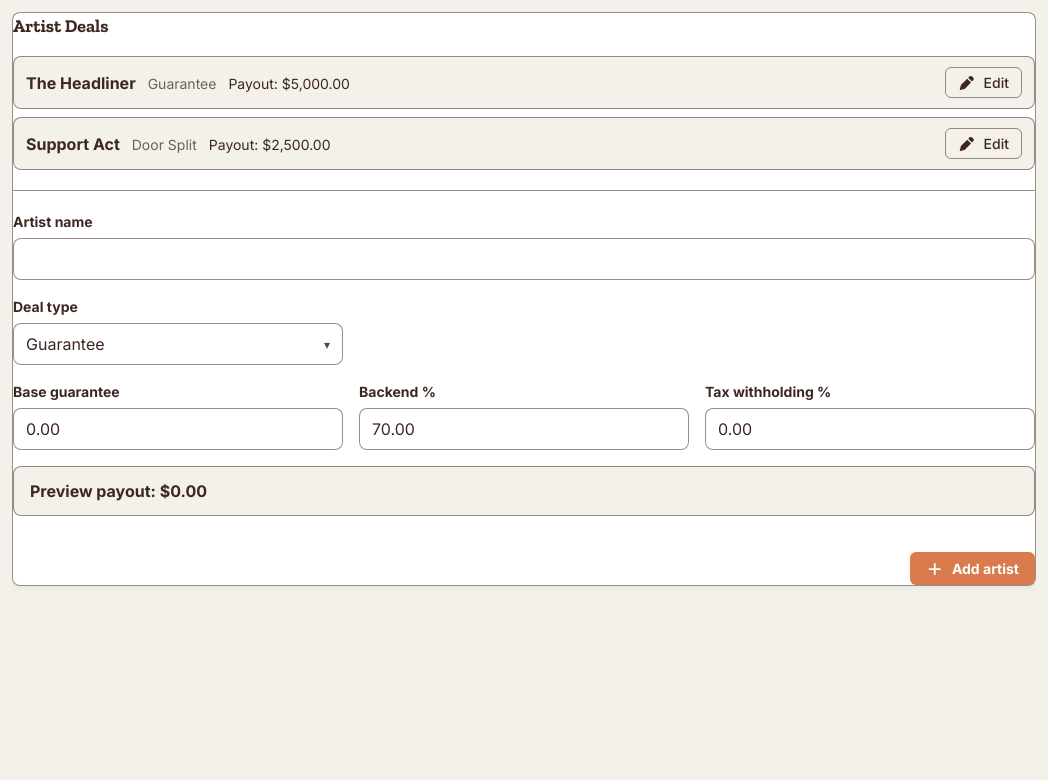
ArtistDealPanel › clears the form when Cancel is clicked in edit mode
Click the button with test id "edit-artist-artist-1": click(984, 82) [945,67,1022,98]
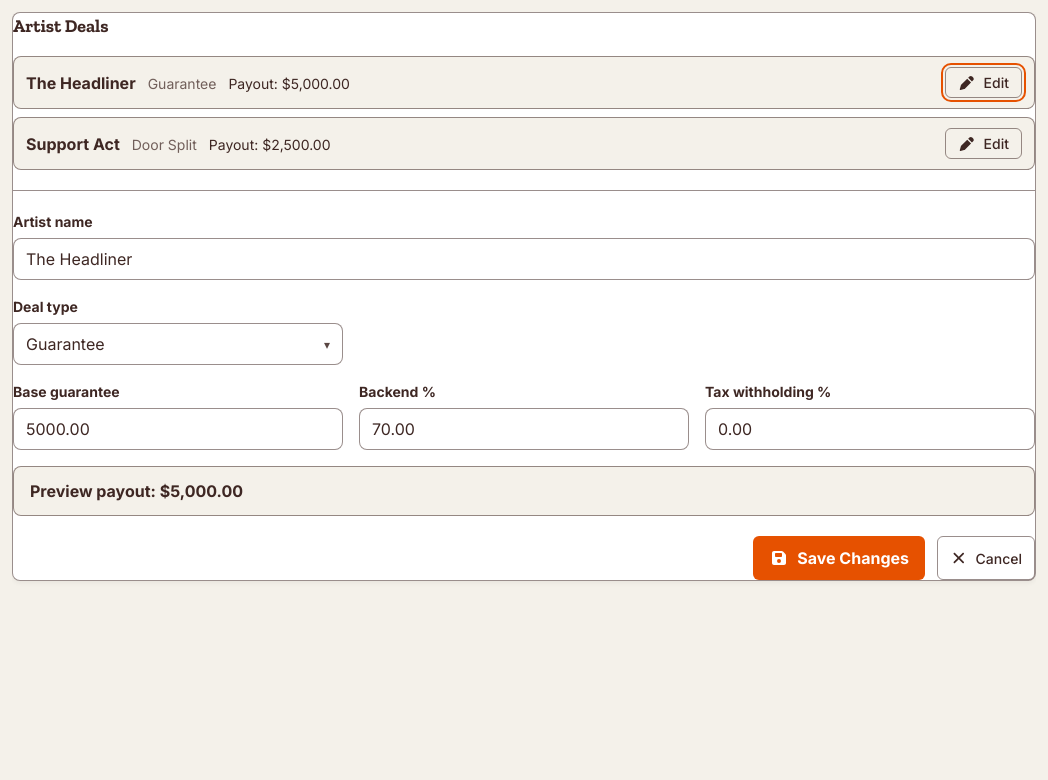
Replace the text in the field with test id "artist-name-input" with "Changed": (524, 259) [13,238,1035,280]
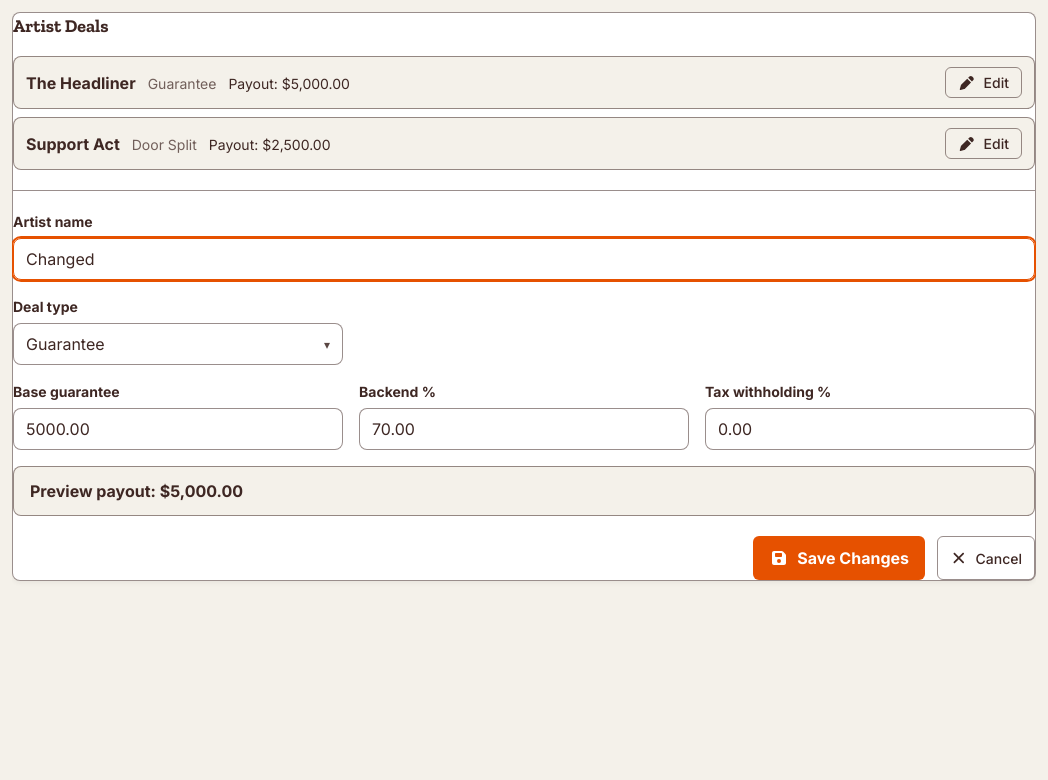
Click the button with test id "cancel-artist-btn": click(986, 558) [937,536,1035,580]
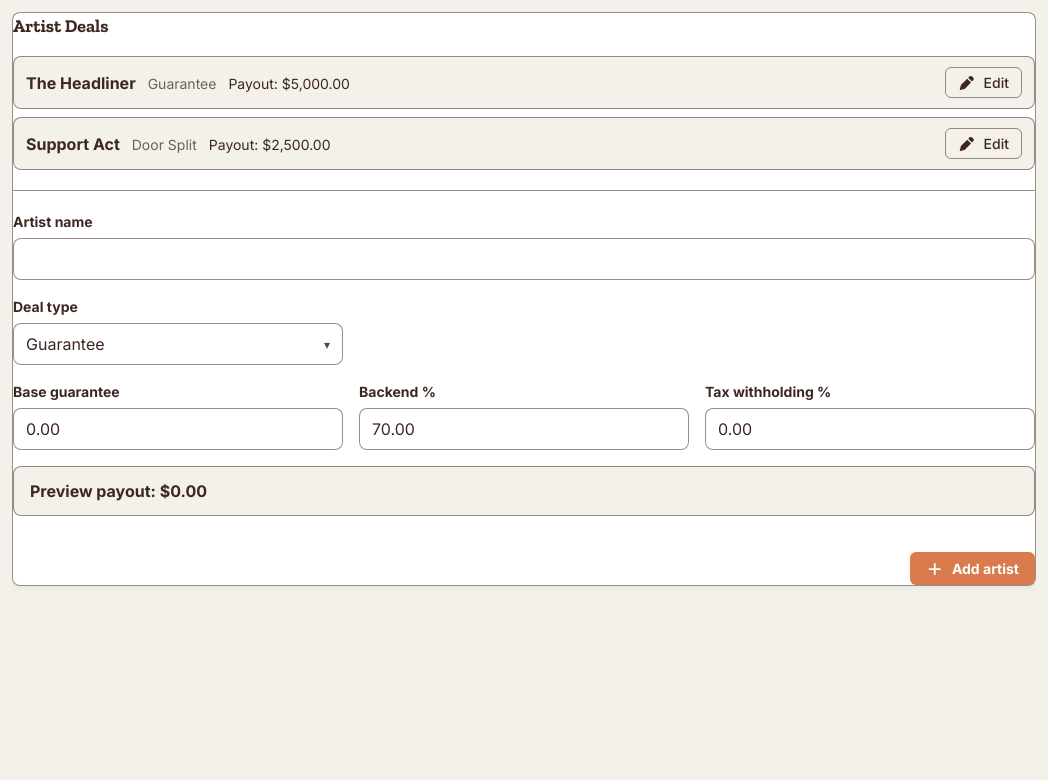
Now the button with test id "add-artist-btn" is shown, box [910,552,1035,585]
